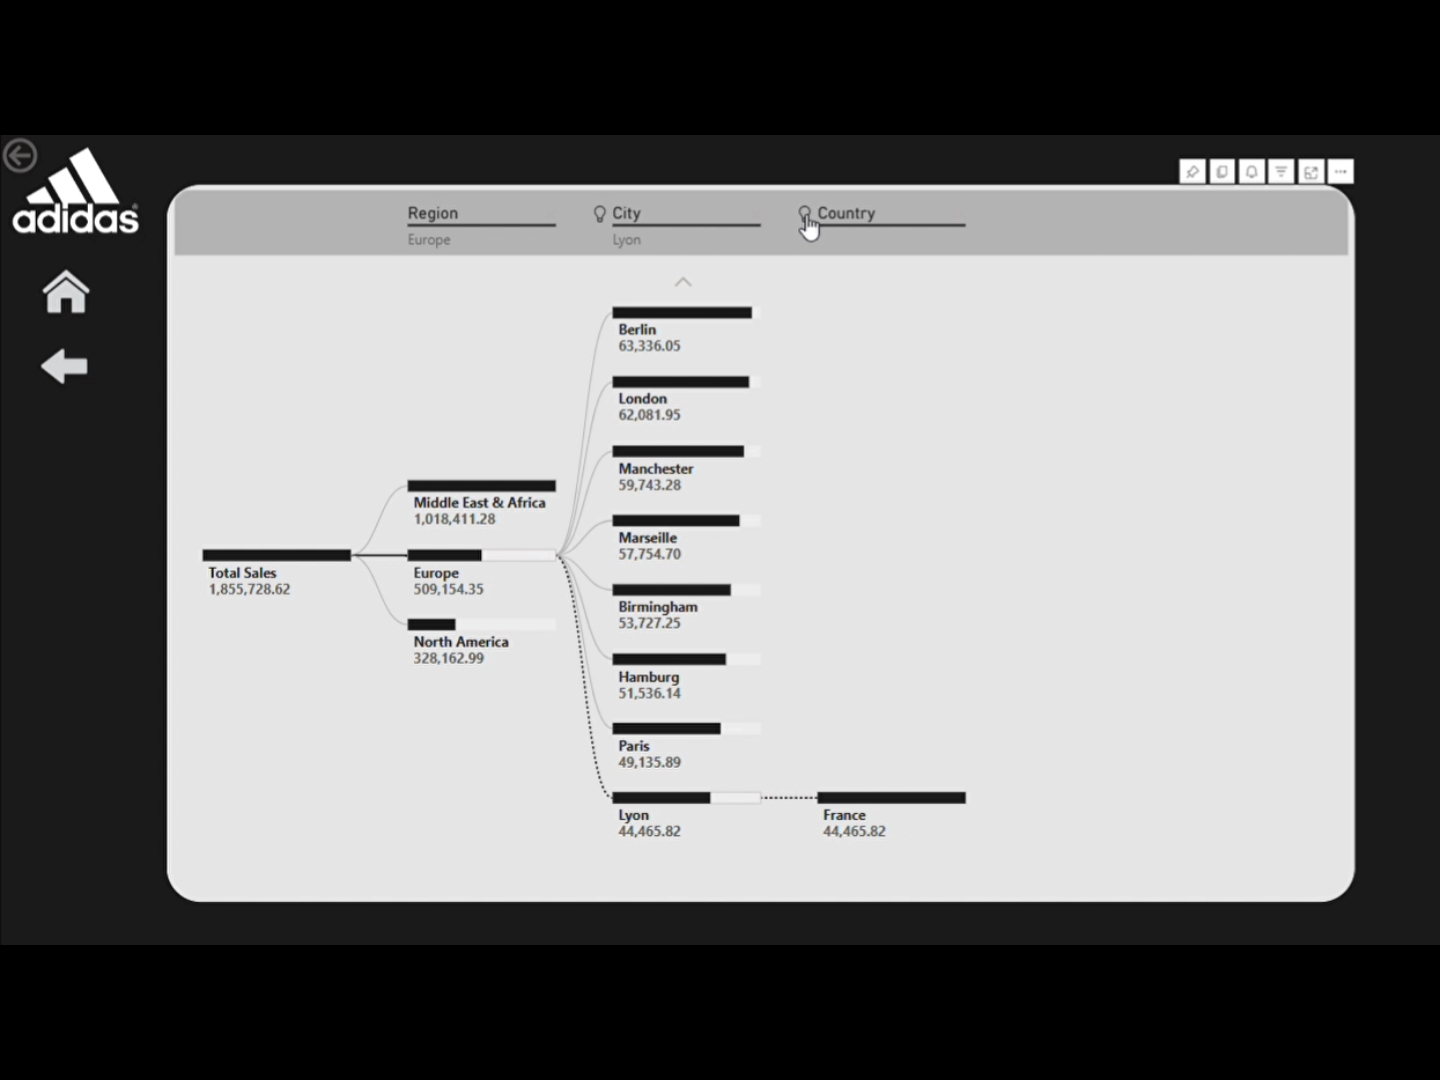

The page's visual inventory and layout, read from the dashboard file:
{"tool":"powerbi","page":{"name":"Why","canvas":[1280,720],"ordinal":3},"visuals":[{"type":"decompositionTreeVisual","fields":{"Analyze":["Adidas Sales Data.Total Sales"],"ExplainBy":["Adidas Sales Data.Region","Adidas Sales Data.Country","Adidas Sales Data.City"]},"box":[148.8,46.1,1043.3,628.1],"z":0},{"type":"image","box":[13.4,102.7,87.8,99.7],"z":1000},{"type":"image","box":[13.4,0,111.6,102.7],"z":2000},{"type":"image","box":[0,175.6,125,83.3],"z":3000},{"type":"actionButton","box":[0,0,100,40],"z":4000}]}

Visuals, with their boxes on the page's 1280x720 design canvas (x1, y1, x2, y2). These are canvas units, not pixel positions in the 1440x1080 screenshot, which may show the page scaled, cropped or inside an application window:
decompositionTreeVisual - Adidas Sales Data.Total Sales x Adidas Sales Data.Region: locate(149, 46, 1192, 674)
image: locate(13, 103, 101, 202)
image: locate(13, 0, 125, 103)
image: locate(0, 176, 125, 259)
actionButton: locate(0, 0, 100, 40)
